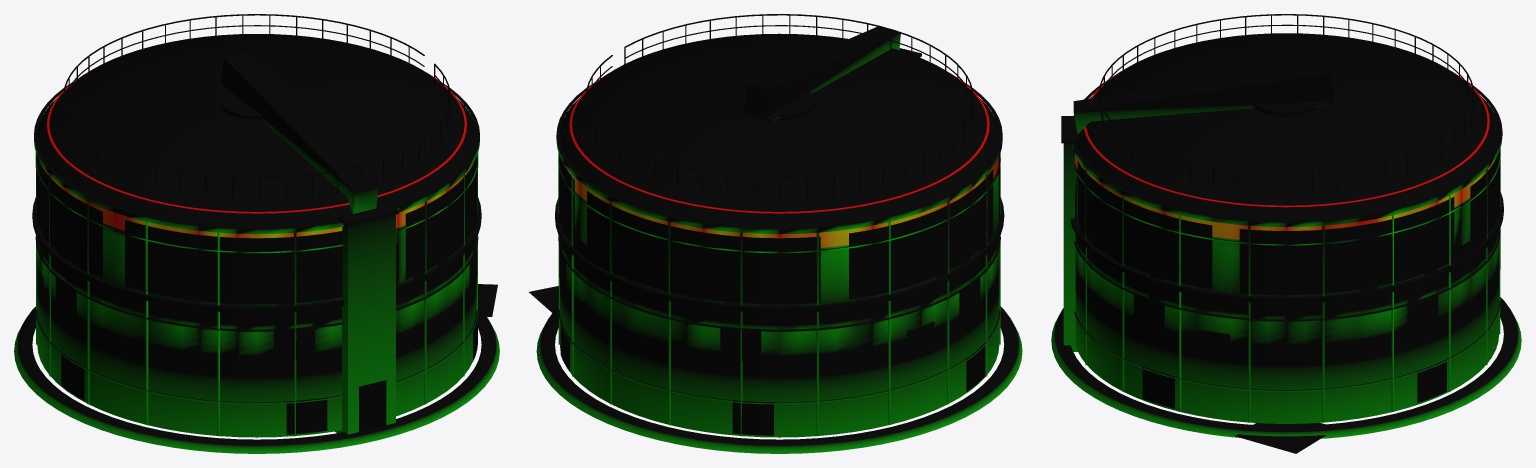
Rendered from liquidstorage.glb.
3 renders of one model, left to right at view 1: azimuth 30°, elevation 25°; view 2: azimuth 150°, elevation 25°; view 3: azimuth 270°, elevation 25°, orthographic. The views are drawn at different scales.
Parts seen in each view (by area): view 1: lod0; view 2: lod0; view 3: lod0.
Boxes of the visible parts, x1=… form: lod0: x1=14, y1=14, x2=499, y2=453; lod0: x1=529, y1=14, x2=1022, y2=453; lod0: x1=1051, y1=14, x2=1521, y2=453.
Size of what is drawn, in the model's own units: 21.83 by 12.84 by 20.12.
